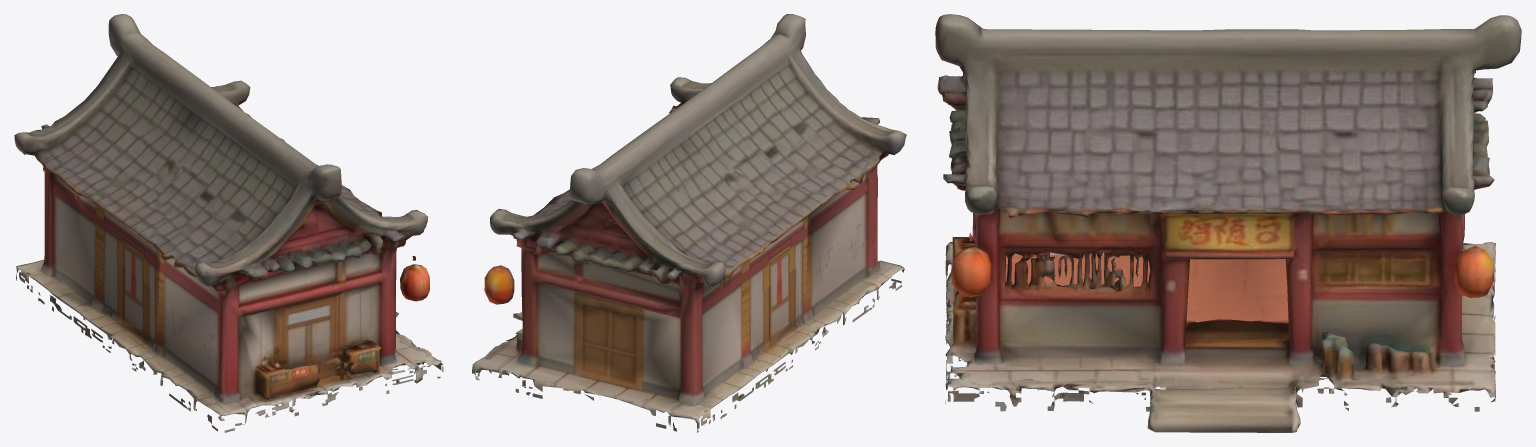
File: bq_teashop.bk.glb
3 views of the same model, side by side, from view 1: azimuth 30°, elevation 25°; view 2: azimuth 150°, elevation 25°; view 3: azimuth 270°, elevation 25° (orthographic). The views are drawn at different scales.
Parts seen in each view (by area): view 1: lo; view 2: lo; view 3: lo.
Boxes of the visible parts, x1,y1,x2,y2 form: lo: (14,14,443,432); lo: (472,14,906,432); lo: (935,14,1521,432).
Bounding box in the file's own units: 1.42 × 1.2 × 2.
Materials: 1 (1 with a texture image).
